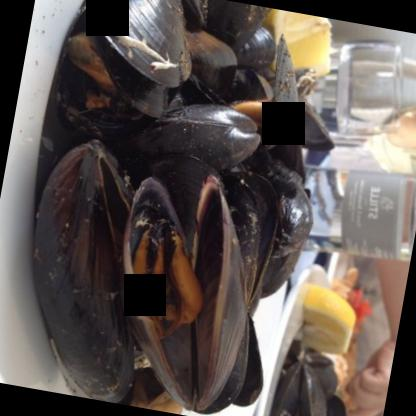mussel: (0, 131, 183, 407), (90, 178, 264, 408), (55, 0, 200, 139)
